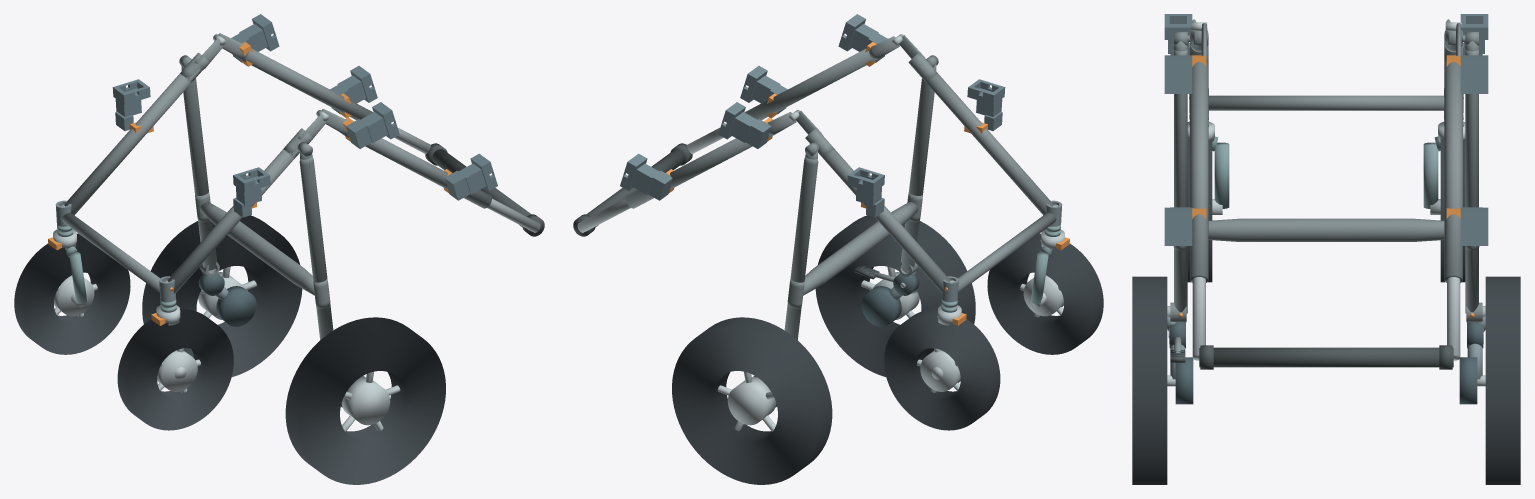
File: w550_state2_wheel_L.glb
3 renders of one model, left to right at view 1: azimuth 30°, elevation 25°; view 2: azimuth 150°, elevation 25°; view 3: azimuth 270°, elevation 25°, orthographic. The views are drawn at different scales.
Visible parts, largest first — view 1: RL_tire.003, FL_tire.003, RR_tire.003, FR_tire.003, main_lower_1.004, V46_rear_leg_-1.004, V46_rearbar.004, main_lower_-1.004, V46_rear_leg_1.004, main_upper_1.004, main_upper_-1.004, RL_sealed_hub.003 (+13 smaller); view 2: RR_tire.003, FR_tire.003, RL_tire.003, FL_tire.003, main_lower_-1.004, V46_rear_leg_1.004, V46_rearbar.004, main_lower_1.004, V46_rear_leg_-1.004, main_upper_-1.004, main_upper_1.004, RR_sealed_hub.003 (+13 smaller); view 3: RL_tire.003, RR_tire.003, V46_rearbar.004, round_handle.003, main_upper_-1.004, main_upper_1.004, front_fixed_round_tube.003, V46_rear_leg_1.004, V46_rear_leg_-1.004, Universal_Cabin_Receiver_M_1, Universal_Cabin_Receiver_M_-1, Universal_Cabin_Receiver_H_1 (+11 smaller).
Boxes of the visible parts, x1,y1,x2,y2 form: RL_tire.003: [285, 317, 445, 484]; FL_tire.003: [117, 309, 233, 430]; RR_tire.003: [142, 215, 302, 376]; FR_tire.003: [14, 233, 130, 354]; main_lower_1.004: [64, 68, 200, 215]; V46_rear_leg_-1.004: [299, 156, 333, 340]; V46_rearbar.004: [199, 202, 314, 295]; main_lower_-1.004: [167, 149, 298, 293]; V46_rear_leg_1.004: [183, 78, 216, 270]; main_upper_1.004: [242, 49, 372, 120]; main_upper_-1.004: [344, 134, 491, 208]; RL_sealed_hub.003: [341, 377, 390, 425]; RR_tire.003: [672, 317, 832, 484]; FR_tire.003: [884, 309, 1000, 430]; RL_tire.003: [815, 215, 975, 376]; FL_tire.003: [987, 233, 1103, 354]; main_lower_-1.004: [917, 68, 1053, 215]; V46_rear_leg_1.004: [784, 156, 818, 340]; V46_rearbar.004: [803, 202, 918, 295]; main_lower_1.004: [819, 149, 950, 293]; V46_rear_leg_-1.004: [901, 78, 934, 270]; main_upper_-1.004: [745, 49, 875, 120]; main_upper_1.004: [626, 134, 773, 208]; RR_sealed_hub.003: [727, 377, 776, 425]; RL_tire.003: [1132, 276, 1167, 484]; RR_tire.003: [1485, 276, 1520, 484]; V46_rearbar.004: [1208, 218, 1444, 241]; round_handle.003: [1199, 347, 1453, 367]; main_upper_-1.004: [1190, 62, 1208, 282]; main_upper_1.004: [1444, 62, 1462, 282]; front_fixed_round_tube.003: [1208, 95, 1444, 110]; V46_rear_leg_1.004: [1465, 49, 1478, 313]; V46_rear_leg_-1.004: [1174, 49, 1187, 313]; Universal_Cabin_Receiver_M_1: [1460, 55, 1488, 93]; Universal_Cabin_Receiver_M_-1: [1164, 55, 1192, 93]; Universal_Cabin_Receiver_H_1: [1460, 207, 1488, 245].
Size of the model in its own units: 1.04 by 0.84 by 0.671.
